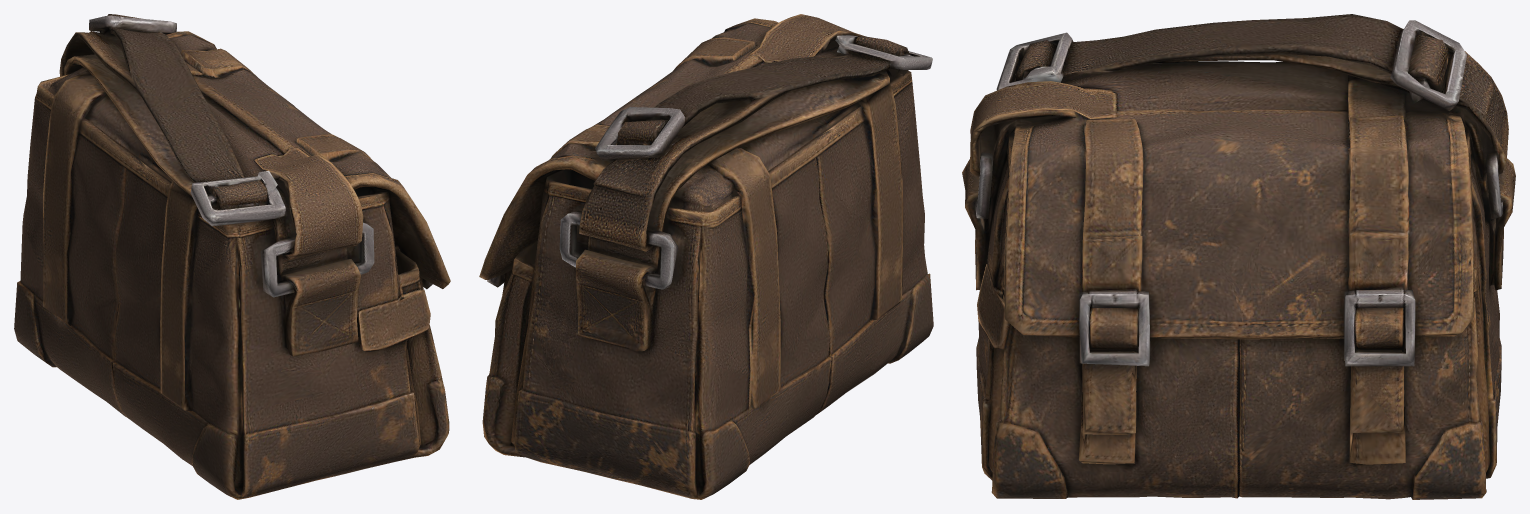
Rendered from PROP-TOOL-BAG.glb.
The picture shows the model from 3 angles, left to right: view 1: azimuth 30°, elevation 25°; view 2: azimuth 150°, elevation 25°; view 3: azimuth 270°, elevation 25°; orthographic projection. The views are drawn at different scales.
Parts seen in each view (by area): view 1: tripo_node_0cdefaa6-2a0f-4b4e-aede-2ca6e319b6d5; view 2: tripo_node_0cdefaa6-2a0f-4b4e-aede-2ca6e319b6d5; view 3: tripo_node_0cdefaa6-2a0f-4b4e-aede-2ca6e319b6d5.
Part boxes in pixels (x1,y1,x2,y2): tripo_node_0cdefaa6-2a0f-4b4e-aede-2ca6e319b6d5: [14, 14, 450, 499]; tripo_node_0cdefaa6-2a0f-4b4e-aede-2ca6e319b6d5: [479, 14, 933, 499]; tripo_node_0cdefaa6-2a0f-4b4e-aede-2ca6e319b6d5: [962, 14, 1515, 499].
Bounding box in the file's own units: 0.6235 × 0.7949 × 1.
1 material, 1 textured.
